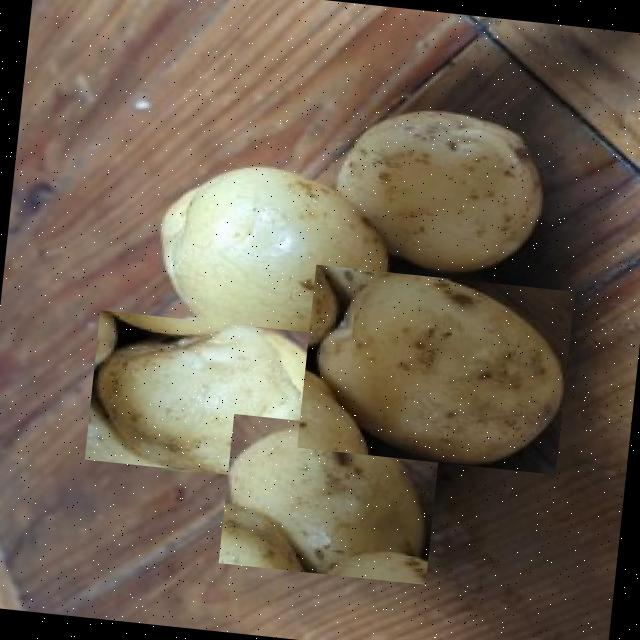Potato: (296, 264, 574, 474), (144, 152, 398, 354), (84, 309, 338, 483), (322, 98, 552, 289), (218, 412, 441, 584)
